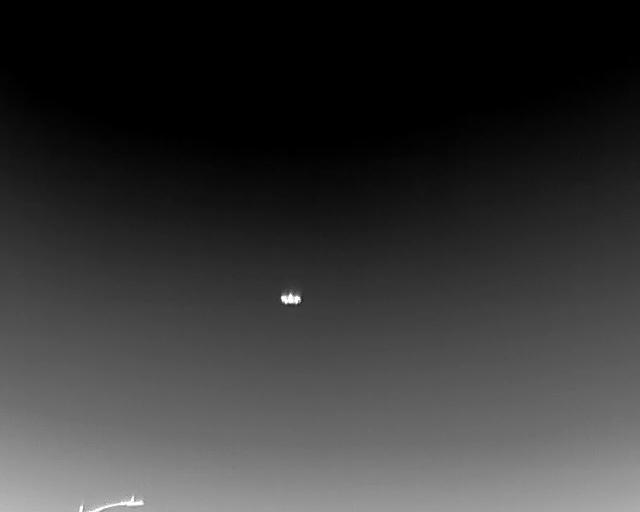fpv-drone: (280, 291, 302, 306)
